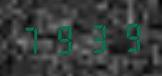nine: (49, 21, 79, 56), (111, 18, 141, 53)
seven: (18, 22, 48, 57)
three: (80, 20, 110, 54)
